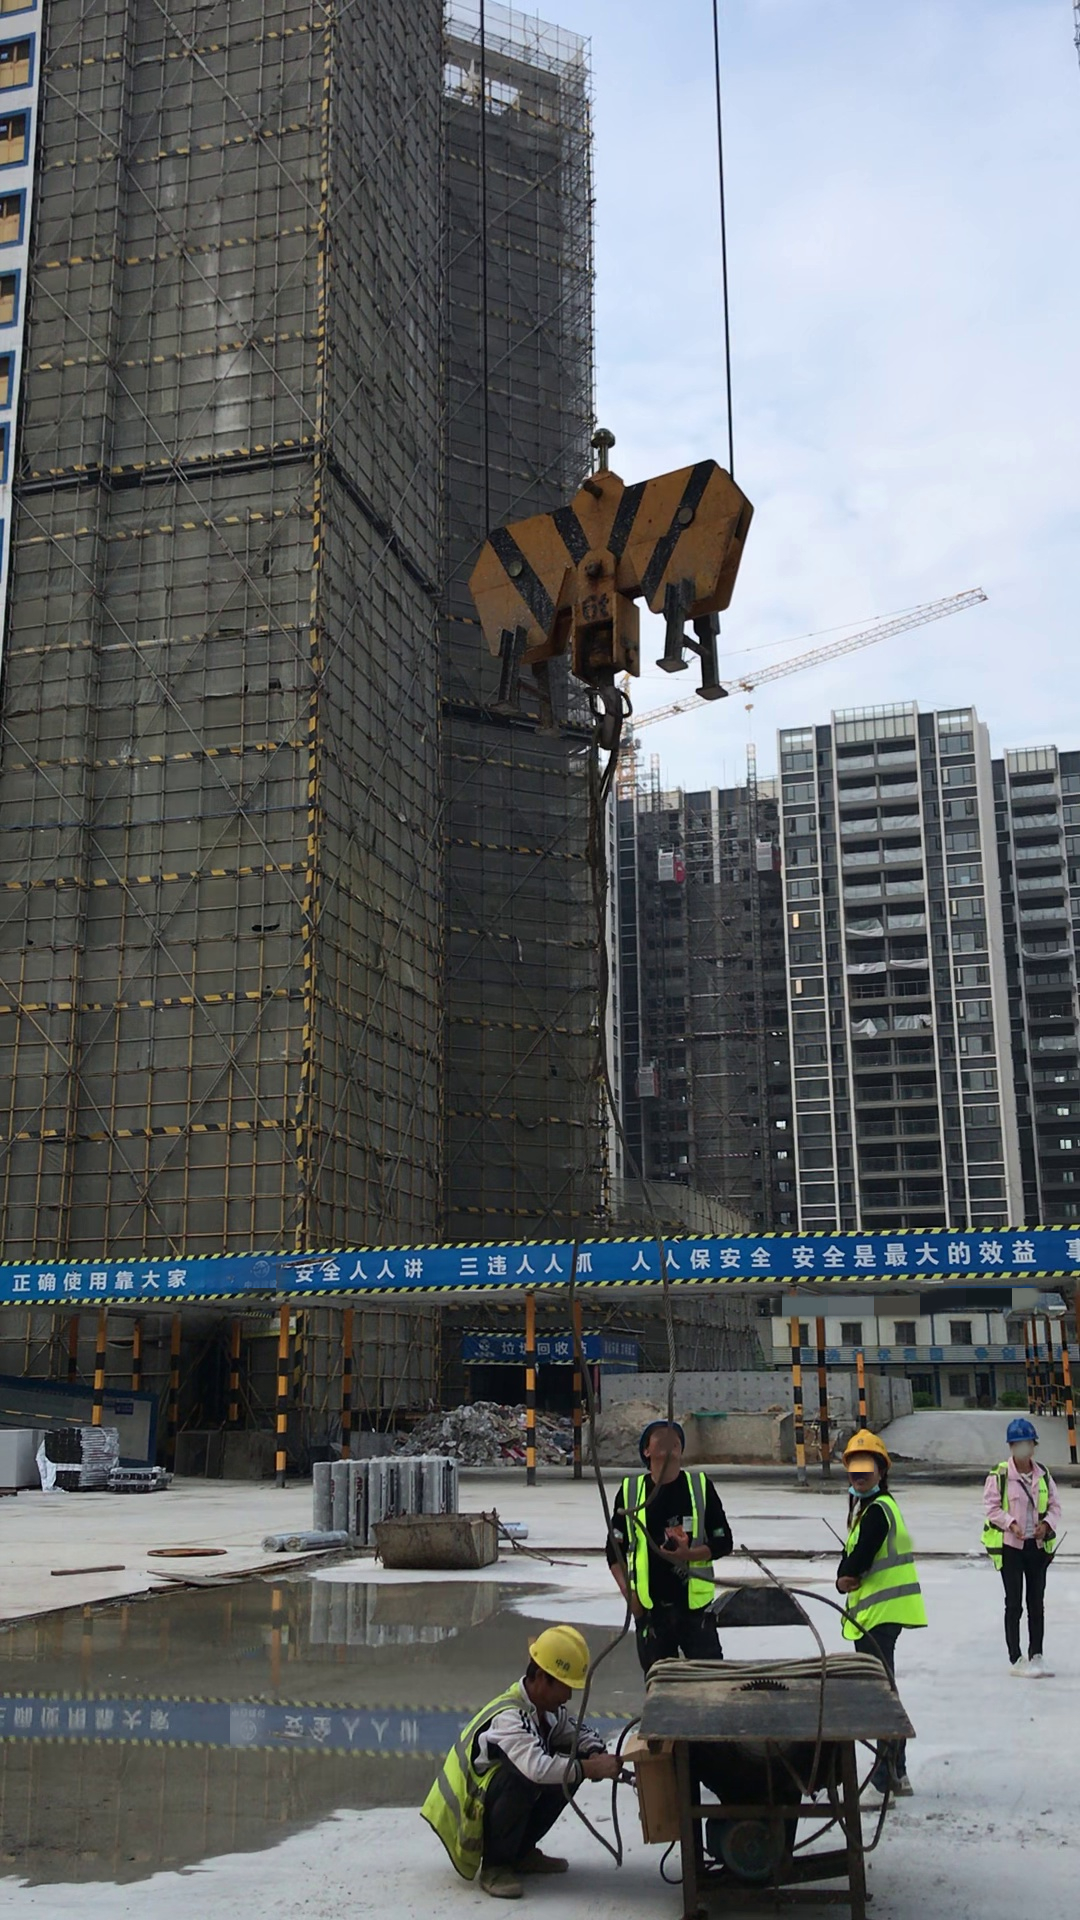helmet: (519, 1620, 601, 1699), (825, 1415, 895, 1470), (1006, 1424, 1041, 1447)
hook: (437, 449, 760, 711)
hopper: (369, 1495, 525, 1600)
person: (415, 1622, 651, 1913), (830, 1427, 935, 1798), (604, 1409, 747, 1669), (979, 1416, 1068, 1687)
slogan: (17, 1188, 1080, 1331)
vest: (413, 1680, 534, 1880), (831, 1491, 936, 1649), (617, 1456, 716, 1620), (978, 1461, 1066, 1564)
